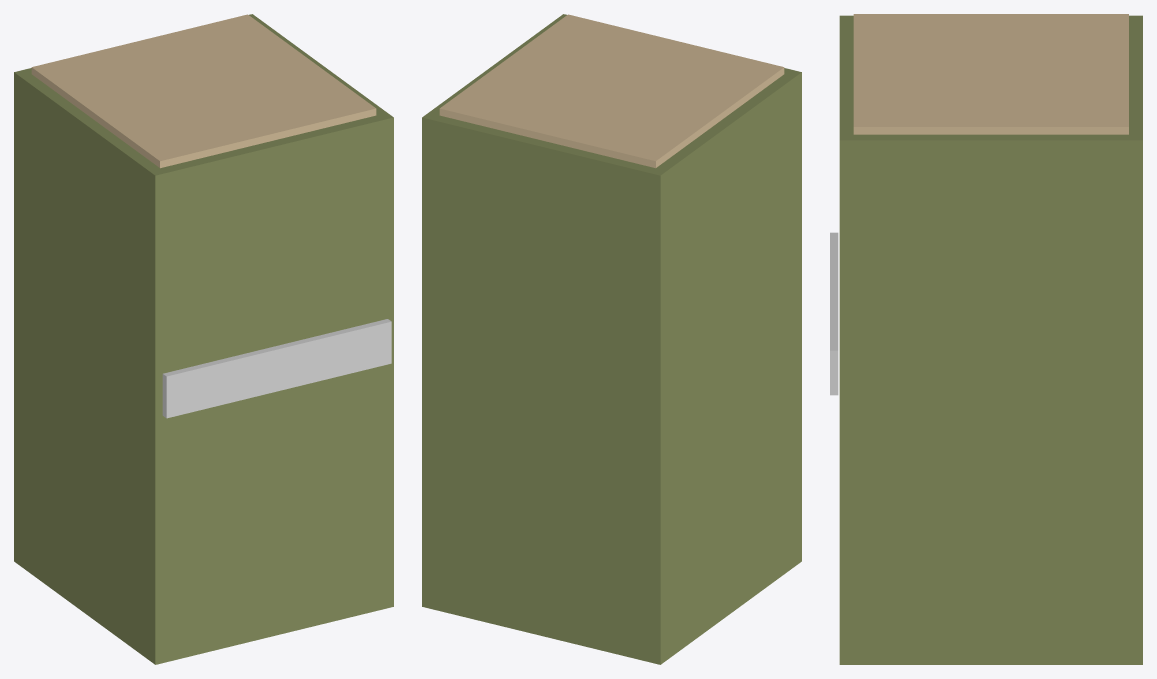
Rendered from SM_HescoCorto1_v0_MallaLimpia_e0_Sano_LOD1.fbx.
The picture shows the model from 3 angles, left to right: view 1: azimuth 30°, elevation 25°; view 2: azimuth 150°, elevation 25°; view 3: azimuth 270°, elevation 25°; orthographic projection. The views are drawn at different scales.
Visible parts, largest first — view 1: SM_hesco_piezas_v40_LOD1; view 2: SM_hesco_piezas_v40_LOD1; view 3: SM_hesco_piezas_v40_LOD1.
Boxes of the visible parts, bbox=[...] form: SM_hesco_piezas_v40_LOD1: bbox=[14, 14, 393, 664]; SM_hesco_piezas_v40_LOD1: bbox=[422, 14, 801, 664]; SM_hesco_piezas_v40_LOD1: bbox=[830, 14, 1142, 664].
Bounding box in the file's own units: 1.07 × 2.13 × 1.13.
